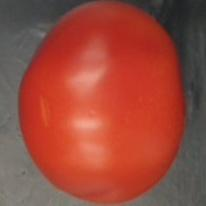unripe: (16, 1, 190, 206)
